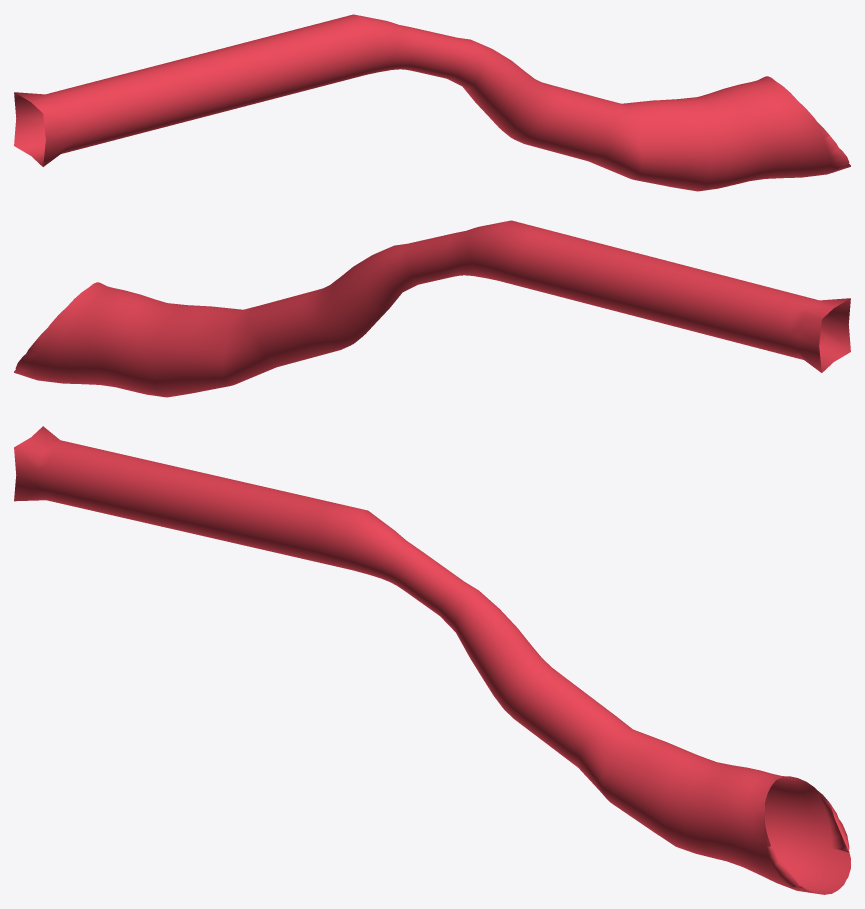
Rendered from Brazo.fbx.
3 renders of one model, top to bottom at view 1: azimuth 30°, elevation 25°; view 2: azimuth 150°, elevation 25°; view 3: azimuth 330°, elevation 25°, orthographic.
Parts seen in each view (by area): view 1: Cylinder.002; view 2: Cylinder.002; view 3: Cylinder.002.
Part boxes in pixels (x1,y1,x2,y2): Cylinder.002: [14, 14, 850, 191]; Cylinder.002: [14, 220, 850, 397]; Cylinder.002: [14, 426, 850, 894].
Bounding box in the file's own units: 5265 × 1644 × 681.
